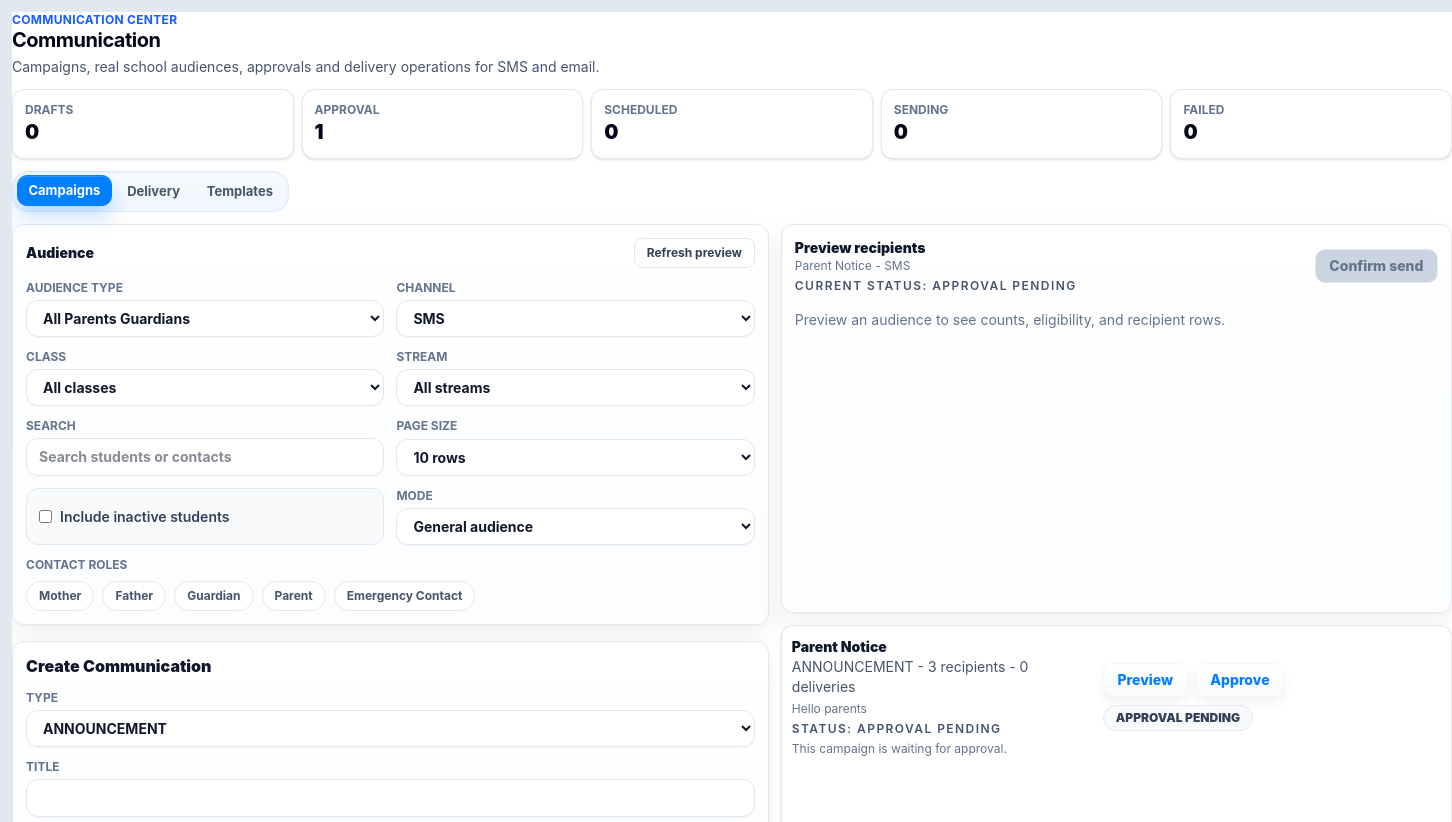
Scenario: CommunicationsPage › prevents duplicate approval submissions while approval is in flight
The image size is (1452, 822).
Step 1. Click the button "Approve" → coordinates (1240, 680), box x1=1196 y1=662 x2=1284 y2=696
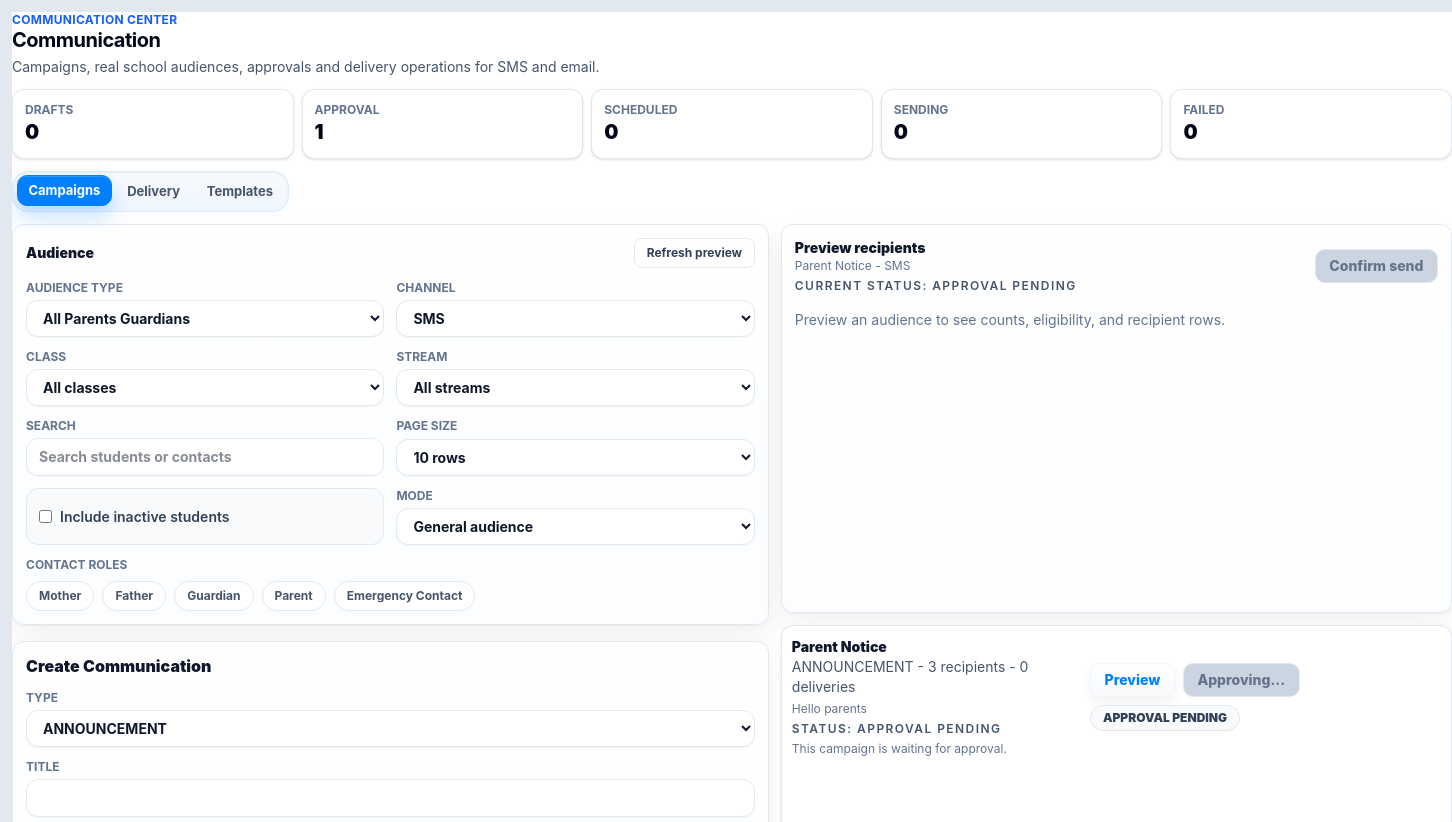
Now the button "Approving..." is disabled, box x1=1183 y1=662 x2=1300 y2=696
Now the button "Approve" is gone
